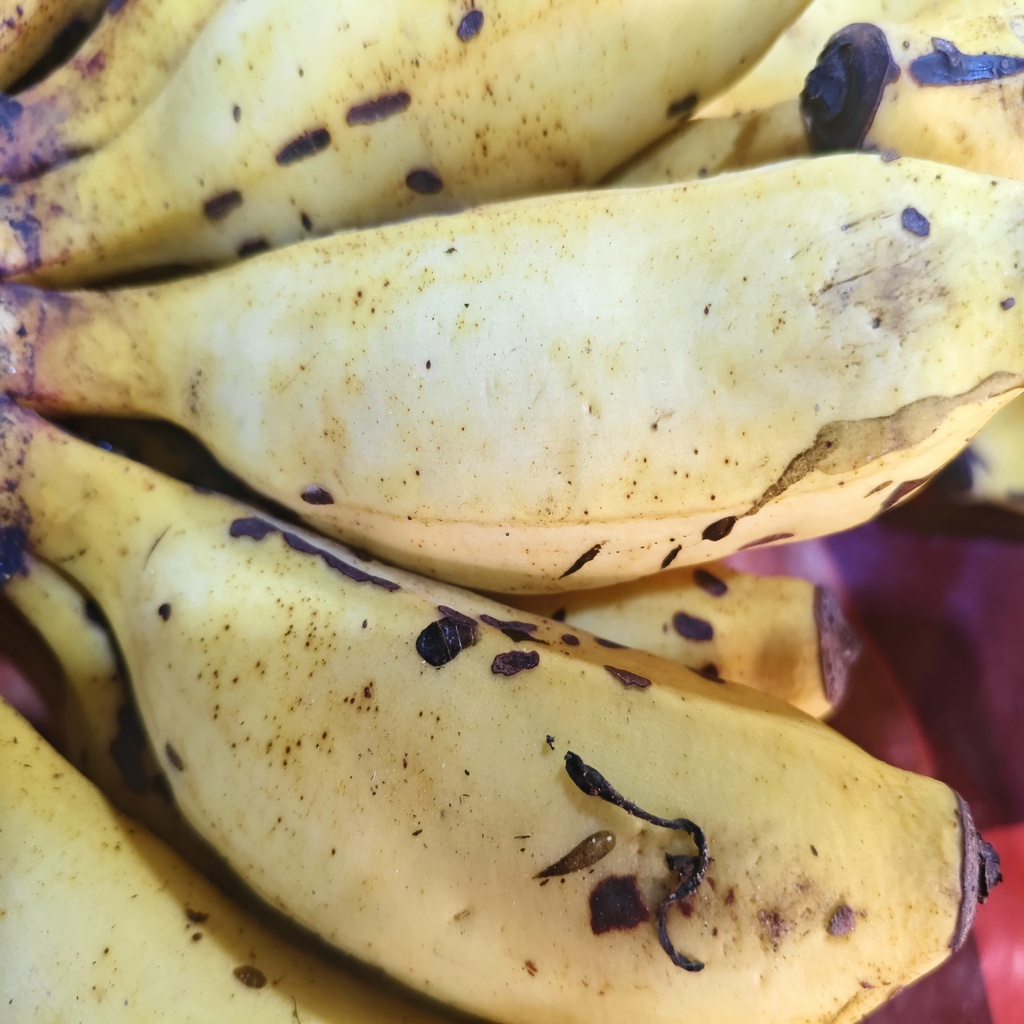unhealthy: (118, 432, 975, 1024), (192, 148, 1022, 585)
